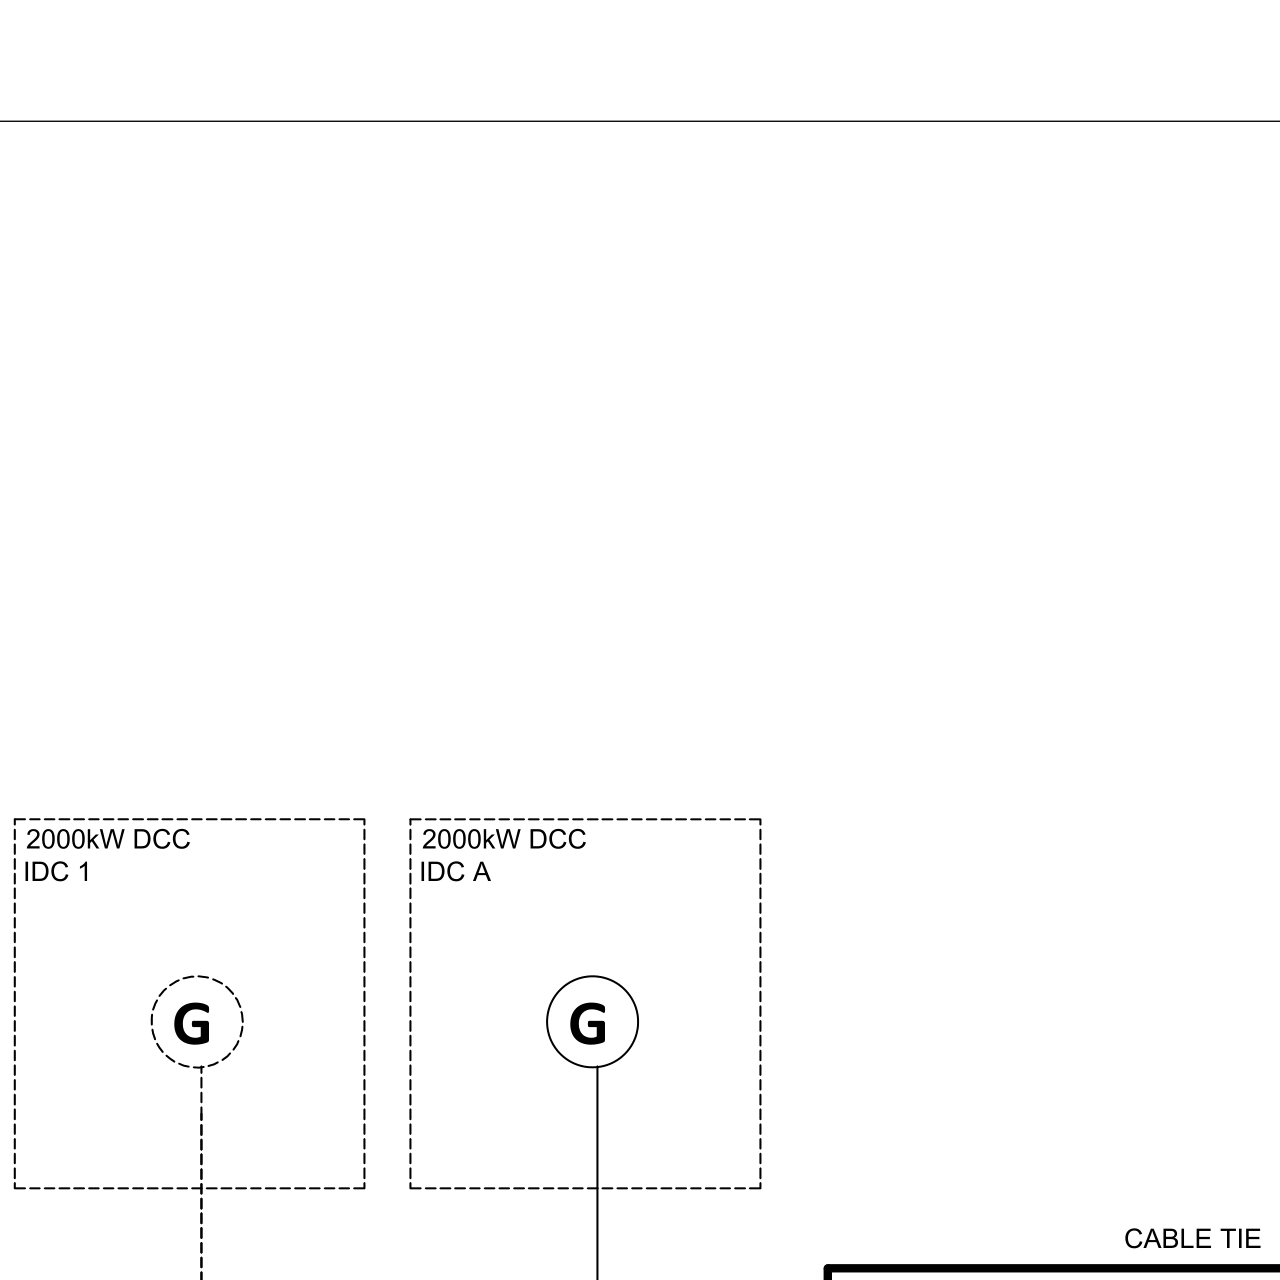Generator: (127, 966, 274, 1081), (523, 966, 670, 1081)
